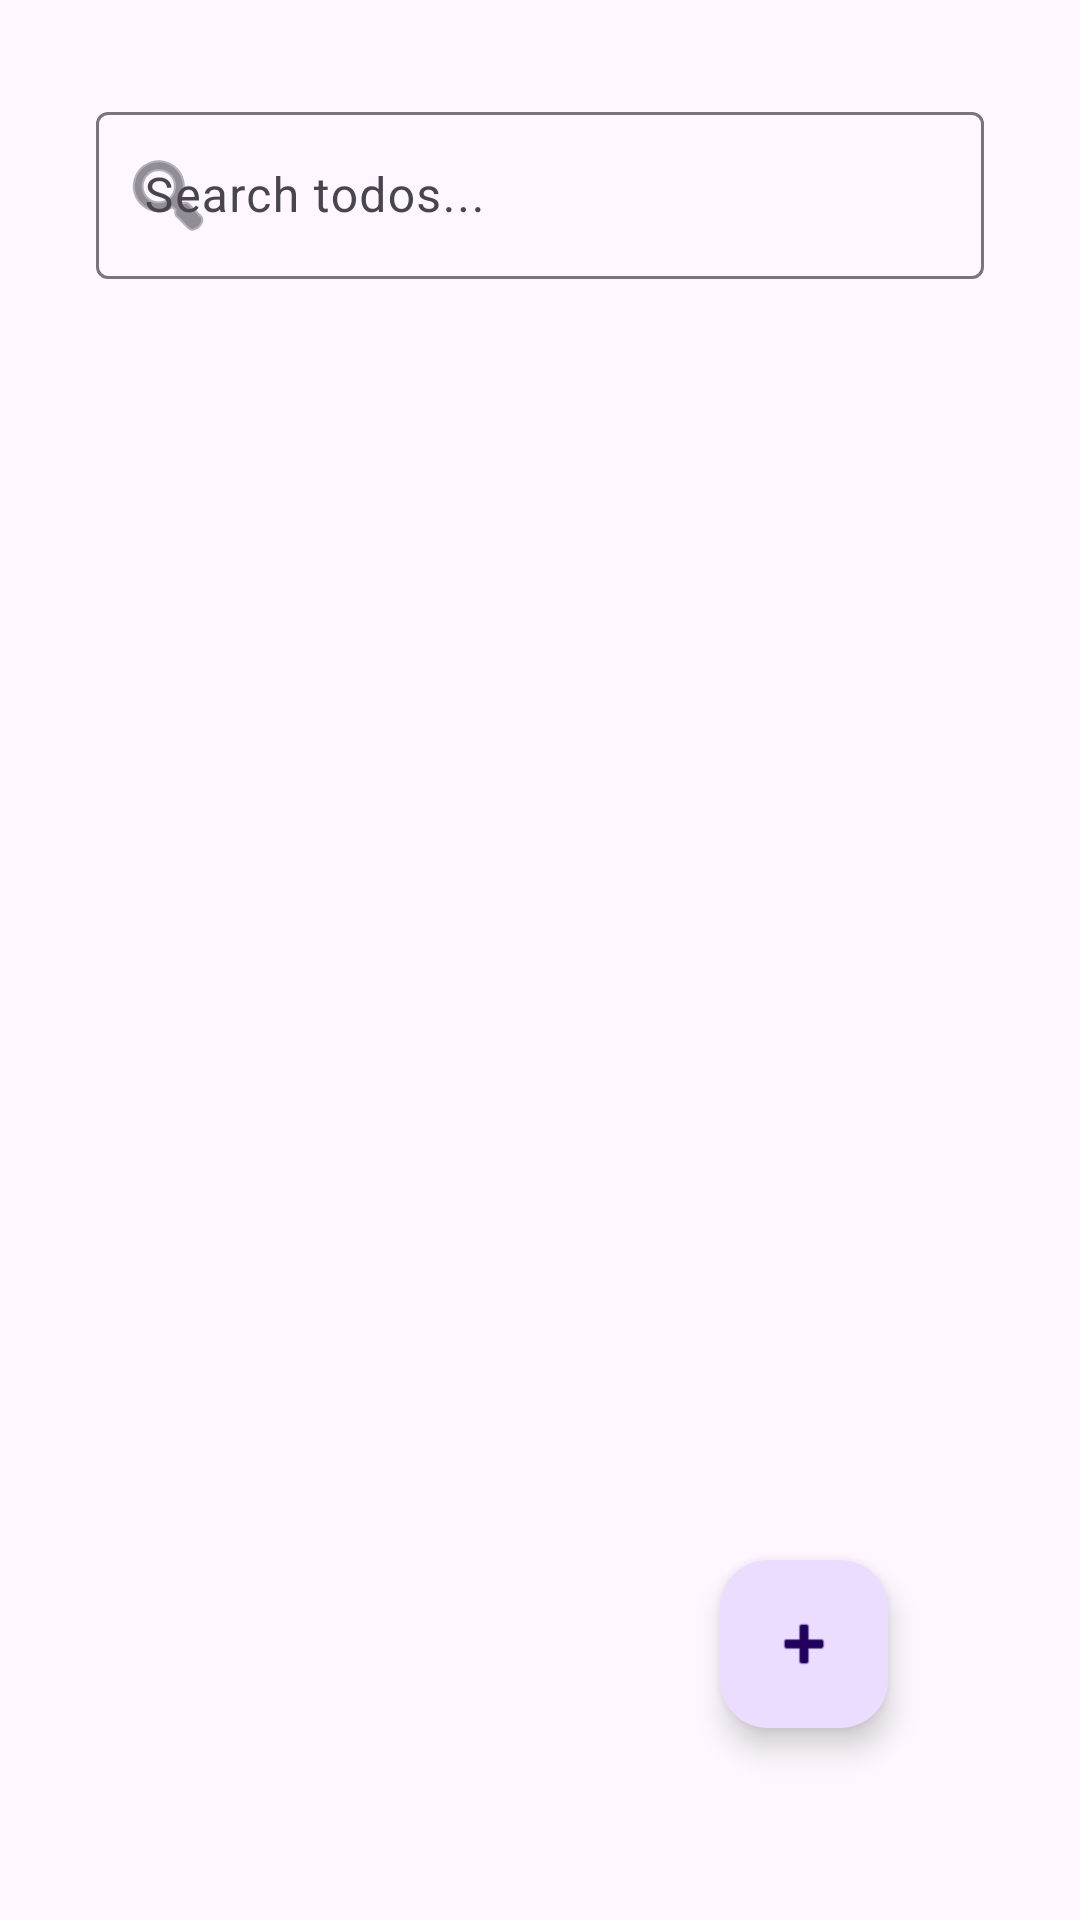

Icon click points for this 1080x1920 phone screenshot, format (x,y):
Add new todo: (804,1644)
